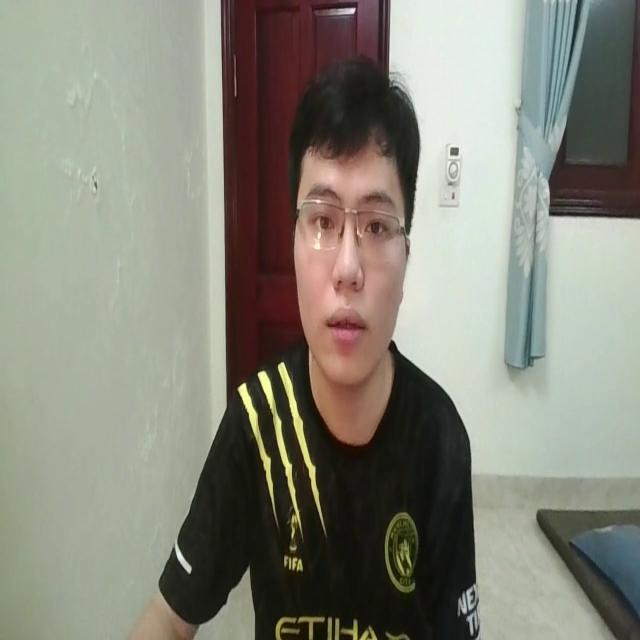student: (112, 35, 479, 640)
